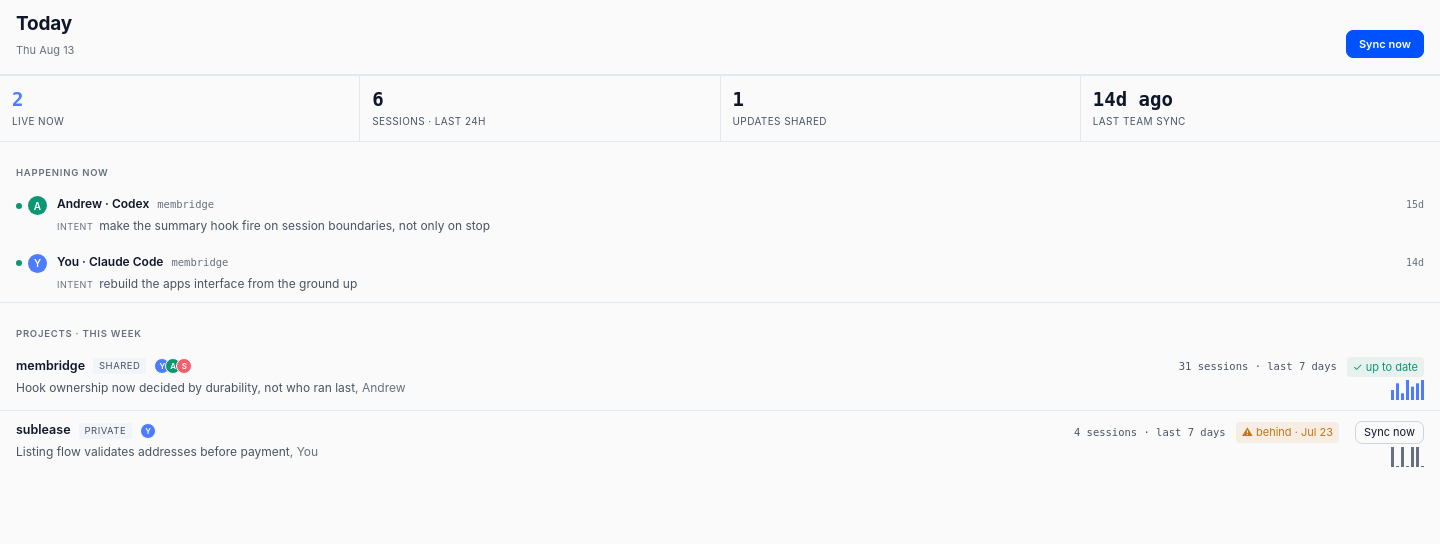
Test: TodayPage › surfaces a failed per-project sync from a behind row
This screenshot has width=1440, height=544.
Click the button "Sync now" next to "Jul 23" at (1390, 433), box 1355,421 -> 1424,444
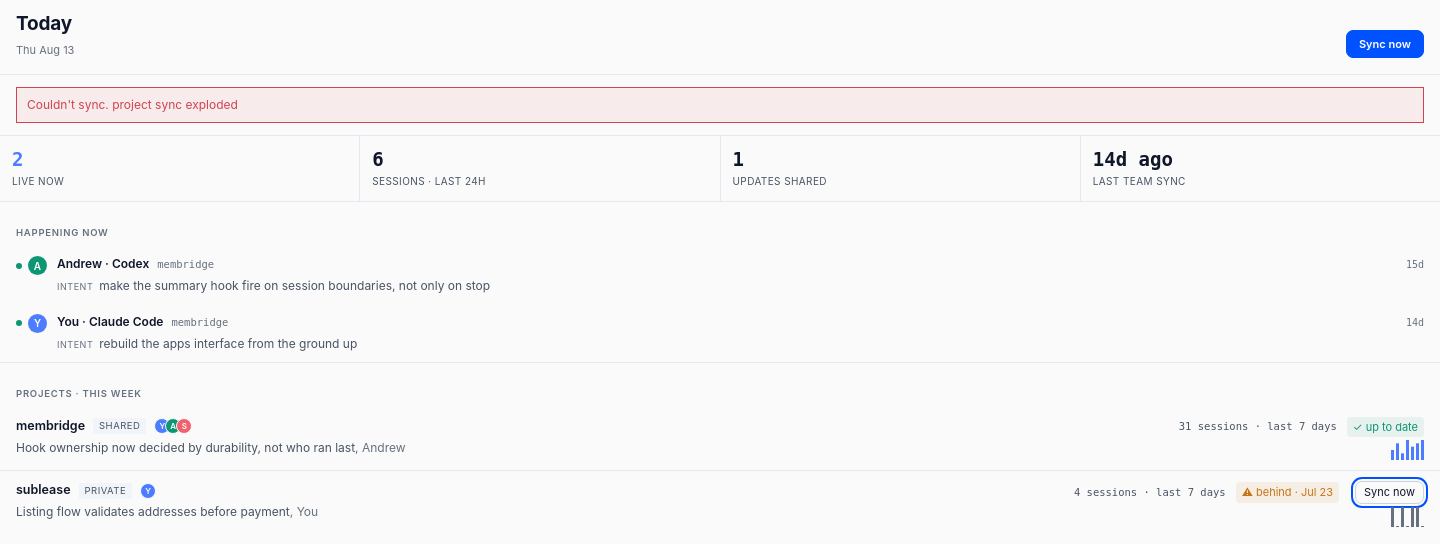
Check: the text "Couldn't sync. project sync exploded" is shown, box 16,87 -> 1424,123
